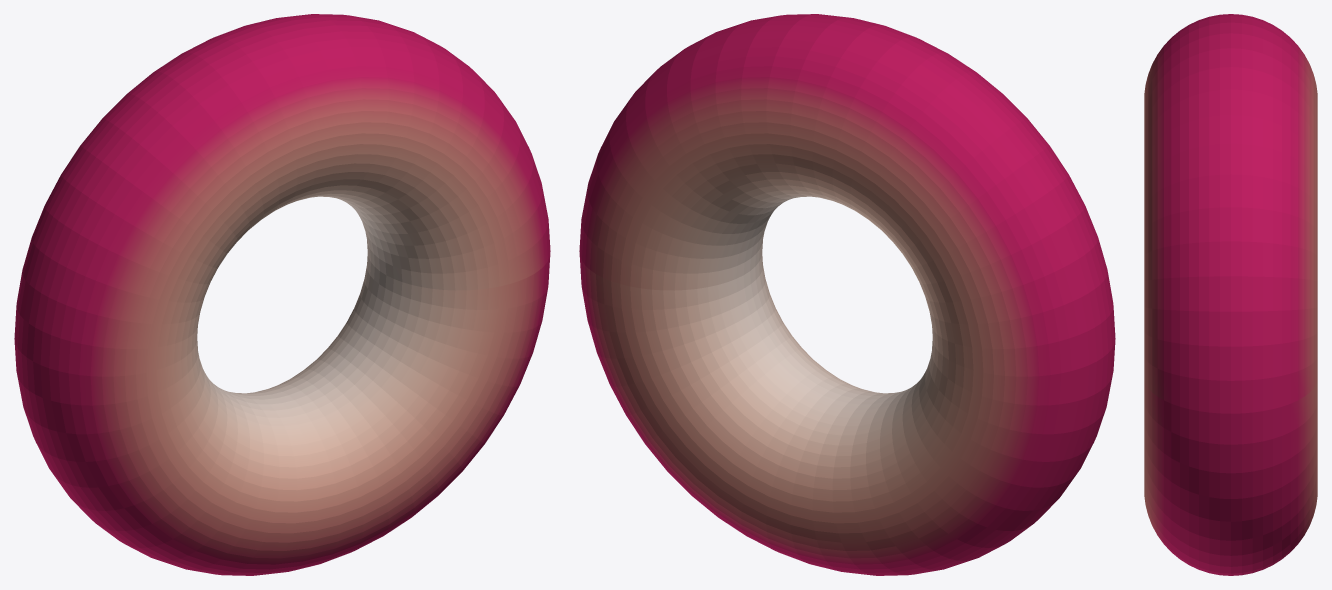
The picture shows the model from 3 angles, left to right: view 1: azimuth 30°, elevation 25°; view 2: azimuth 150°, elevation 25°; view 3: azimuth 270°, elevation 25°; orthographic projection. The views are drawn at different scales.
Parts seen in each view (by area): view 1: world; view 2: world; view 3: world.
Part boxes in pixels (x1=…): world: x1=14, y1=14, x2=550, y2=575; world: x1=579, y1=14, x2=1115, y2=575; world: x1=1144, y1=14, x2=1317, y2=575.
Bounding box in the file's own units: 28 × 27.94 × 8.65.
